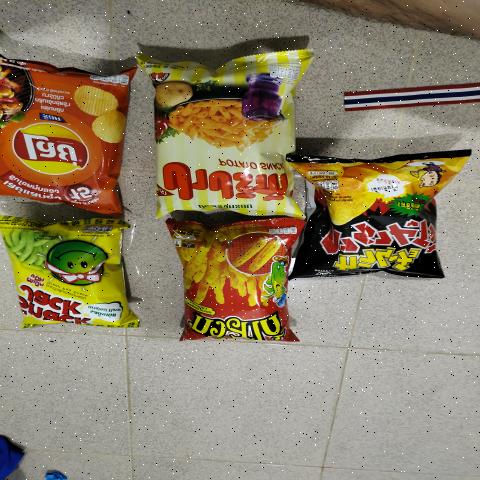karamujo: (311, 162, 450, 274)
paprika: (162, 48, 303, 210)
snack_jack: (20, 224, 116, 324)
twisco: (176, 225, 294, 349)
